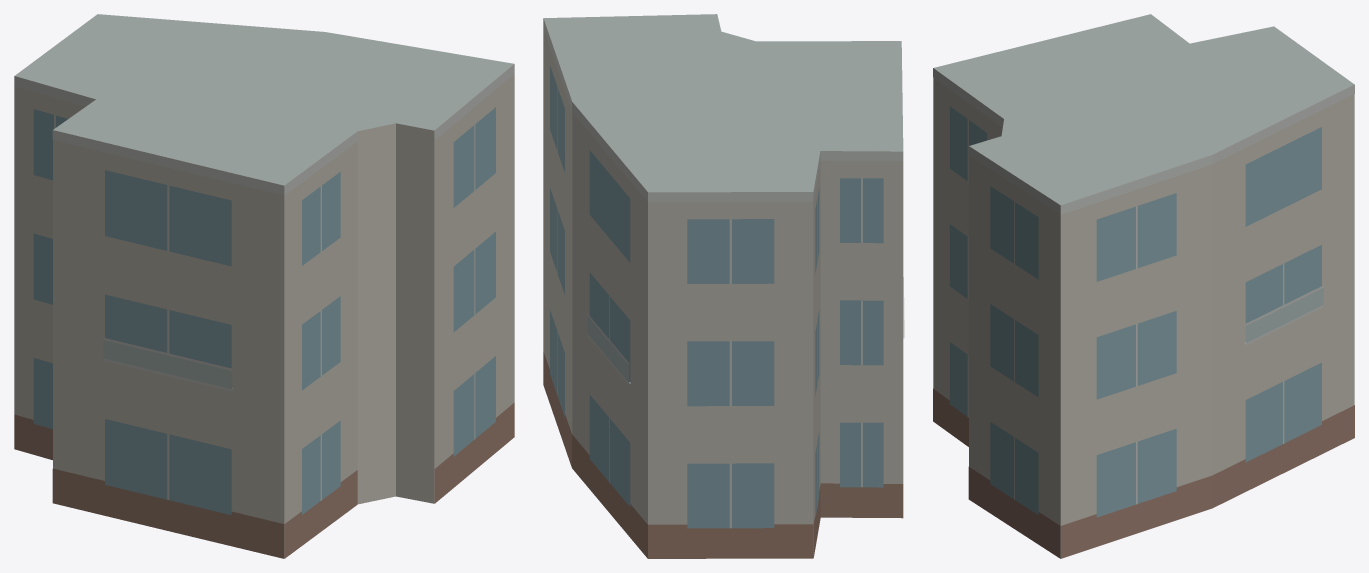
Rendered from survey-upis-32642394.glb.
The picture shows the model from 3 angles, left to right: view 1: azimuth 30°, elevation 25°; view 2: azimuth 150°, elevation 25°; view 3: azimuth 270°, elevation 25°; orthographic projection. The views are drawn at different scales.
Parts seen in each view (by area): view 1: survey-upis-32642394.tmp; view 2: survey-upis-32642394.tmp; view 3: survey-upis-32642394.tmp.
Boxes of the visible parts, box(x1,y1,x2,y2) form: survey-upis-32642394.tmp: box(14, 14, 514, 558); survey-upis-32642394.tmp: box(543, 14, 904, 558); survey-upis-32642394.tmp: box(933, 14, 1354, 558).
Bounding box in the file's own units: 10.63 × 9.15 × 9.9.
